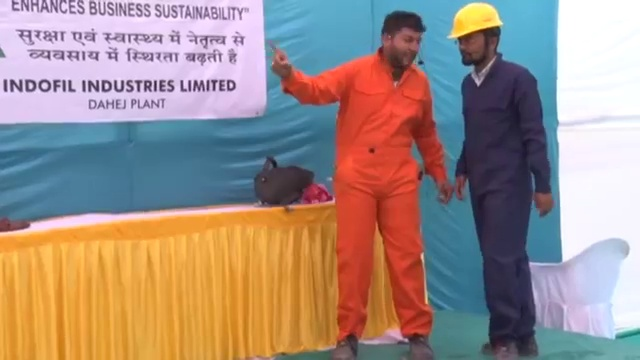helmet: (447, 3, 504, 40)
helmet_off: (378, 12, 425, 70)
helmet_on: (446, 2, 507, 69)
person: (269, 12, 455, 355), (446, 1, 556, 360)
